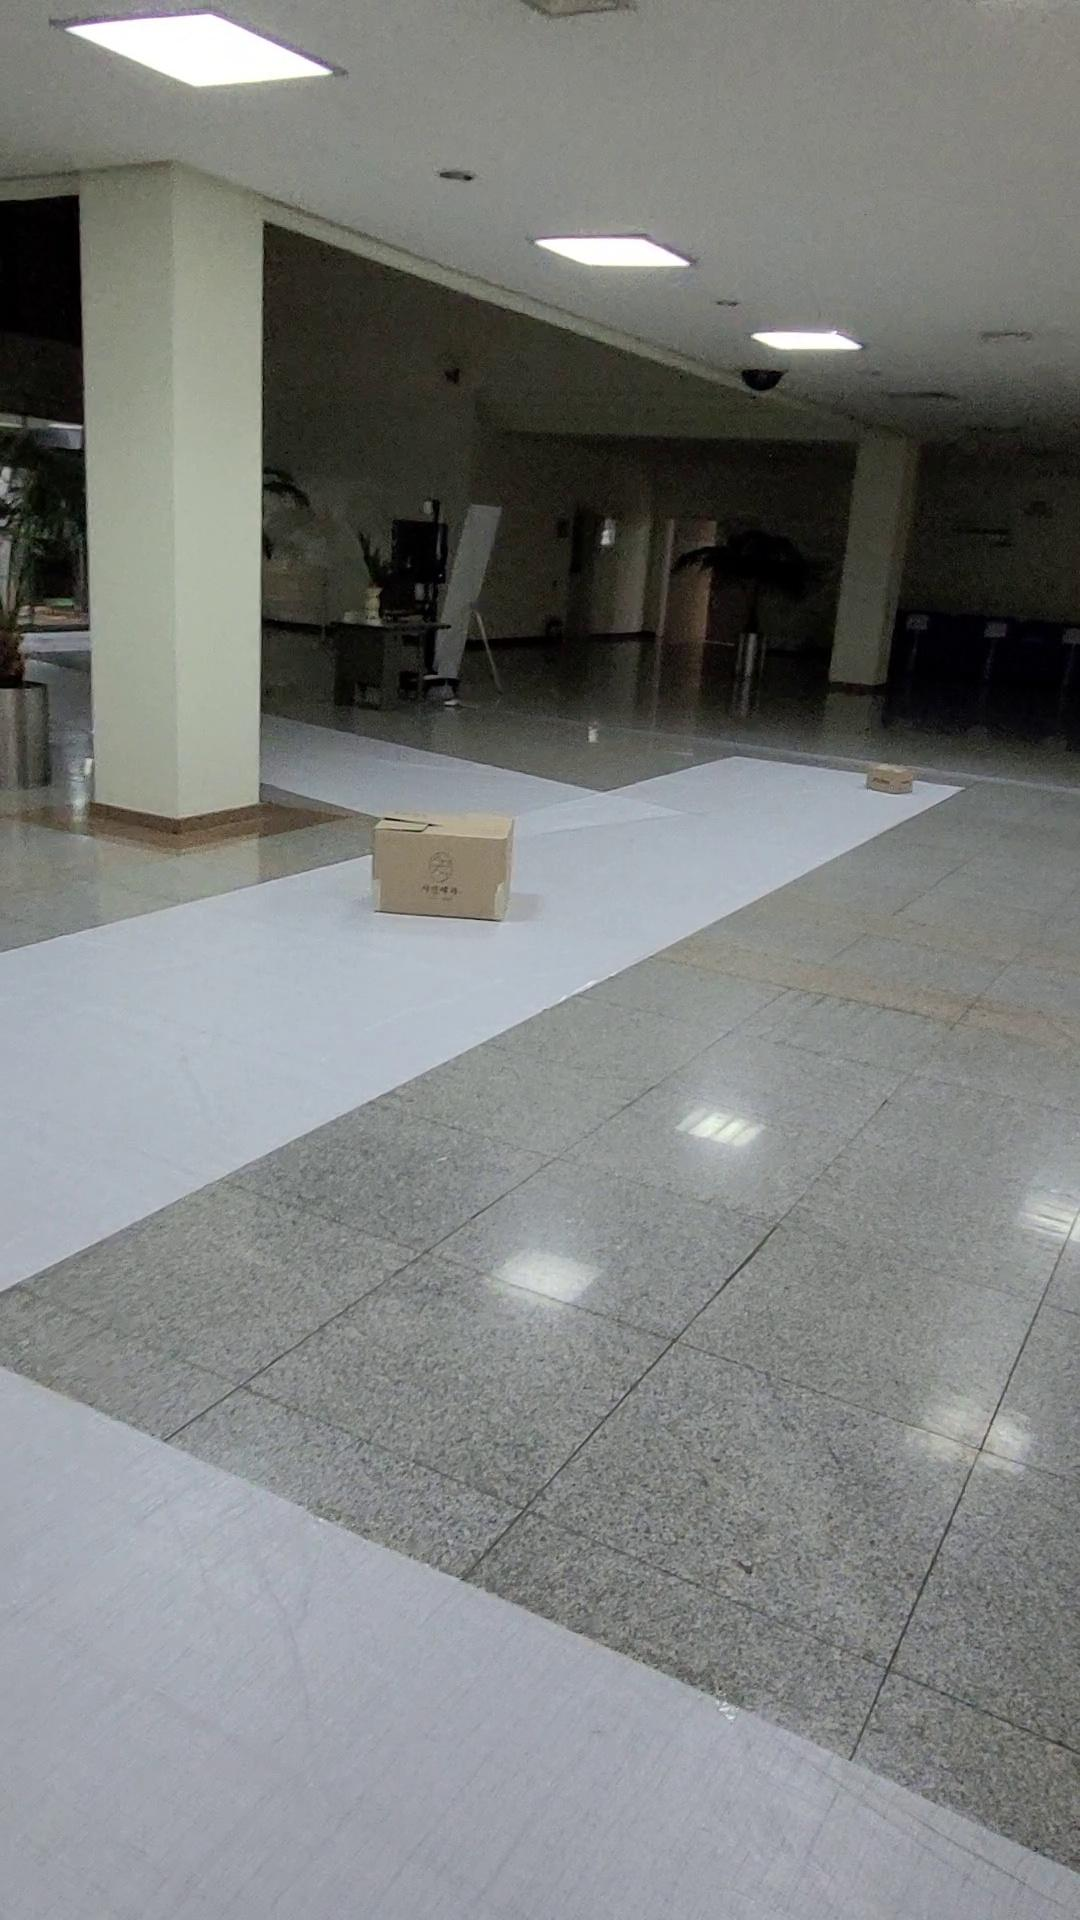Box: (348, 781, 555, 945), (833, 738, 938, 818)
